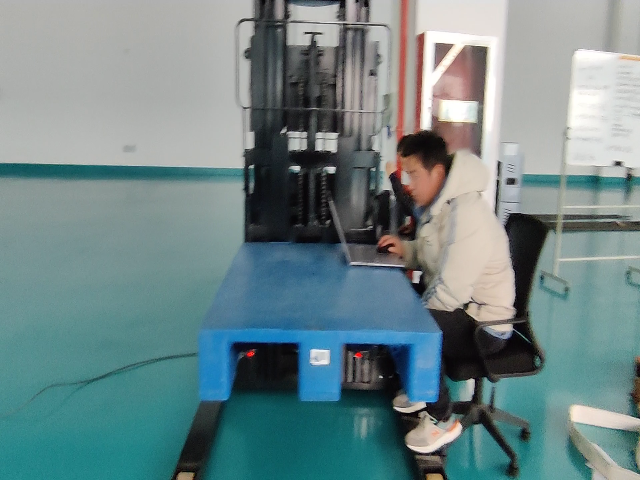block: (296, 330, 345, 402), (193, 329, 232, 401), (404, 334, 443, 404)
front: (195, 331, 441, 401)
hole pallet: (340, 340, 411, 399), (228, 342, 300, 394)
